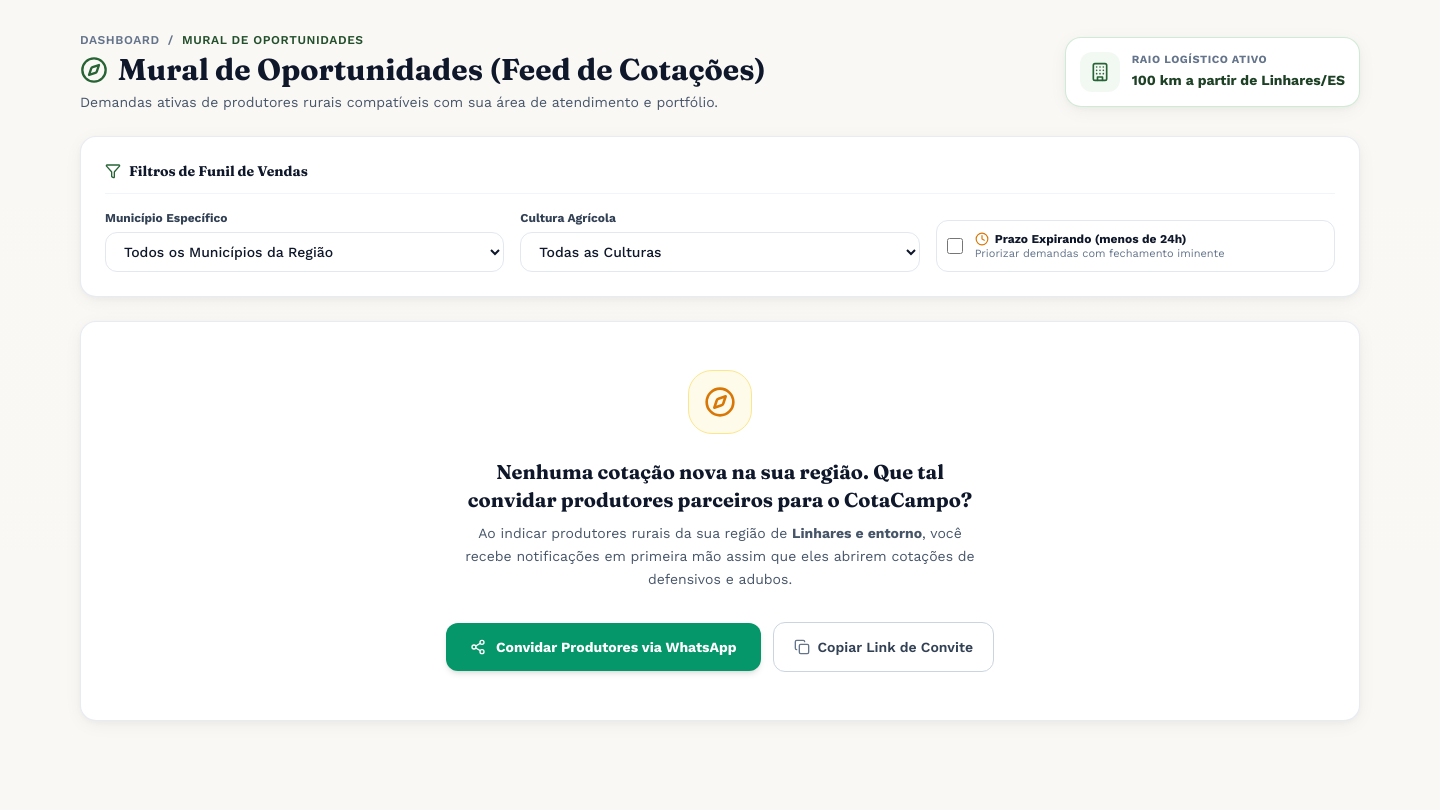
Scenario: US13 – Mural de Oportunidades (Feed de Cotações) › Cenário 3: Ausência de oportunidades locais (Estado Vazio) › deve exibir mensagem oficial de estado vazio e botão para gerar convite via WhatsApp
Check: the element with test id "empty-opportunities-container" is shown, box [80,321,1360,721]
Check: the heading "Nenhuma cotação nova na sua região. Que tal convidar produtores parceiros para o CotaCampo?" is shown, box [468,459,972,512]
Click the button with test id "btn-copy-invite": (883, 647) [772,622,994,672]
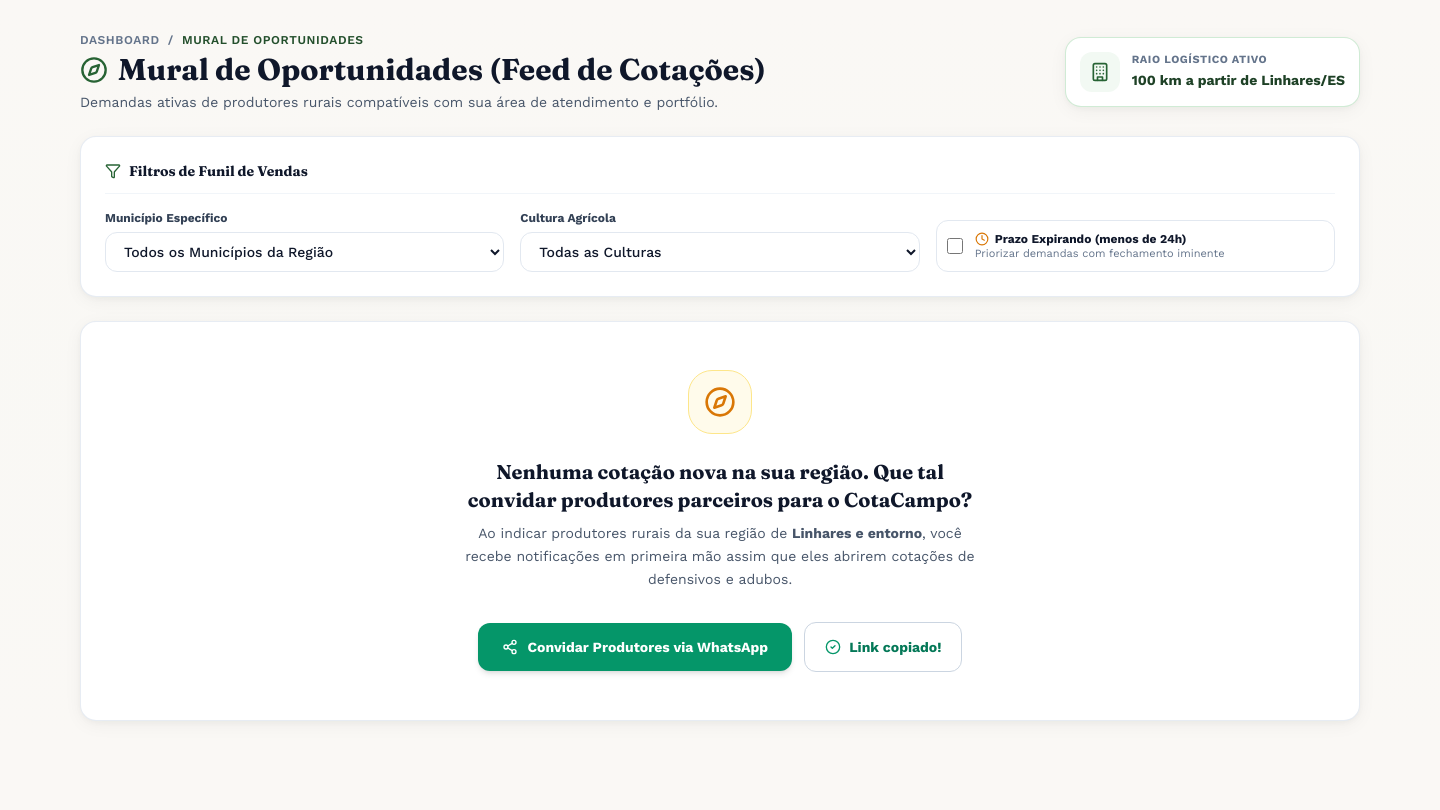
Check: the text "Link copiado!" is shown, box [849,637,941,657]
